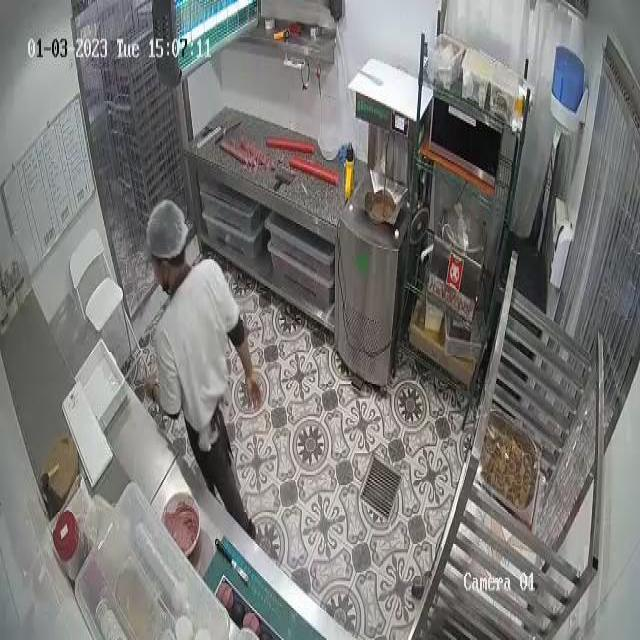hairnet: (145, 197, 185, 254)
